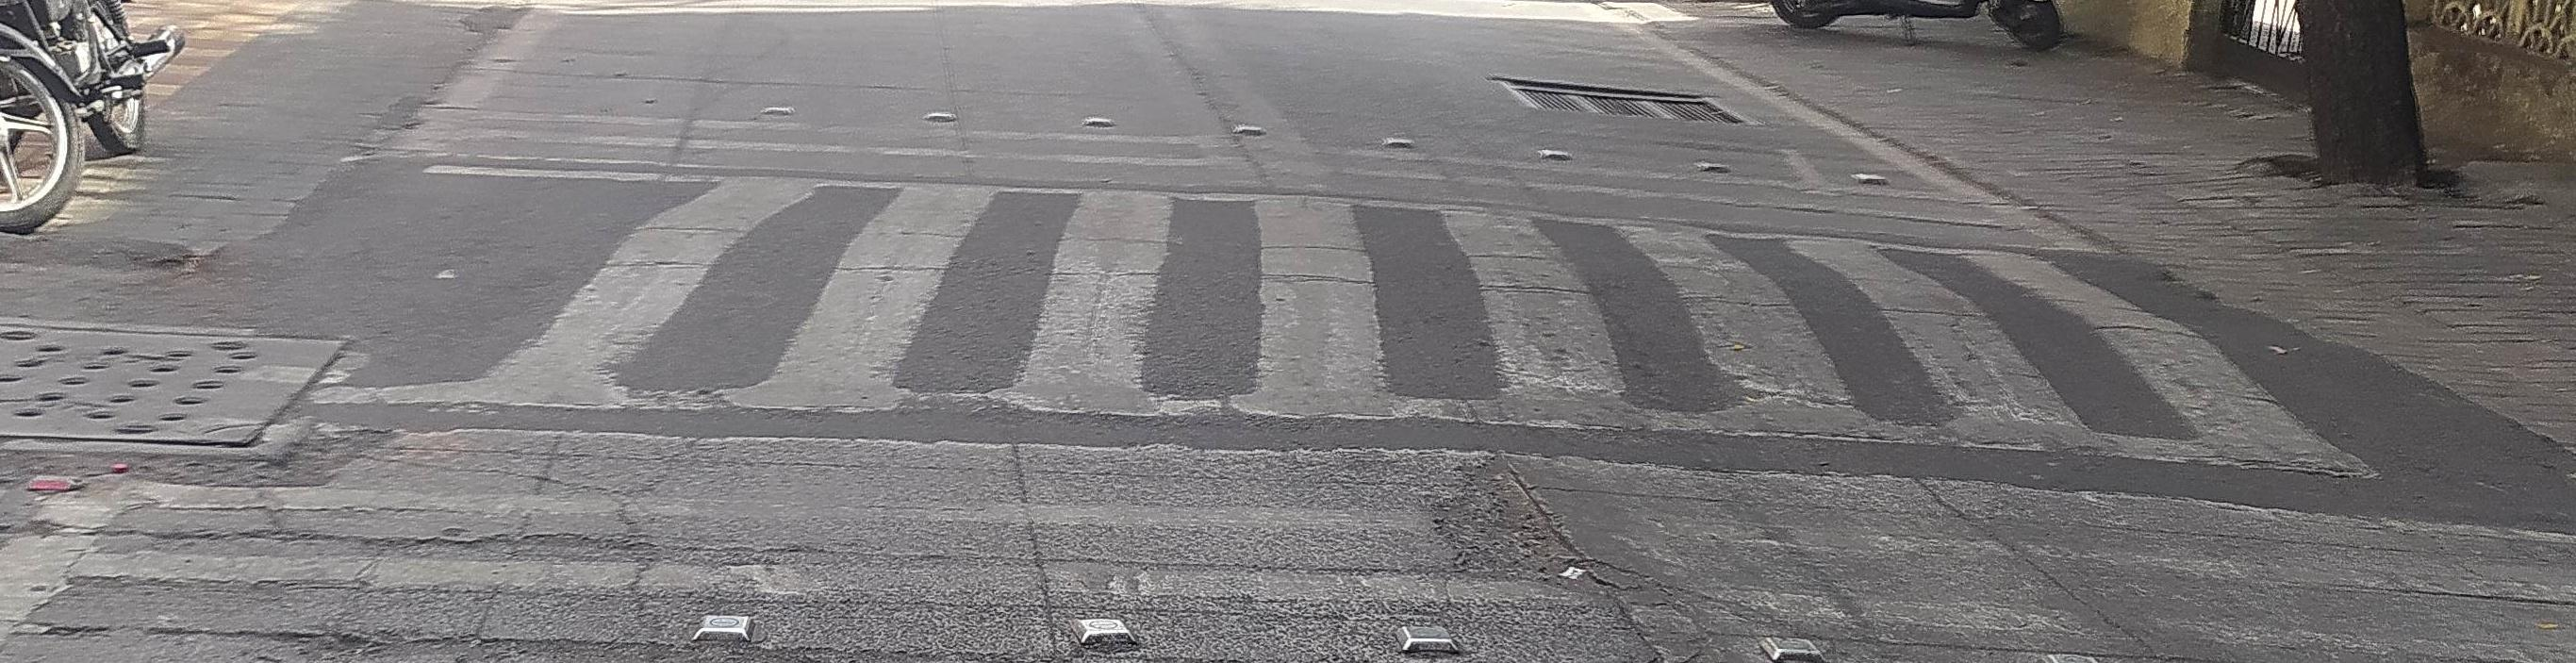speed-bump: (198, 141, 2576, 524)
